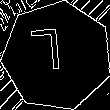L_S: (39, 29, 74, 83)
